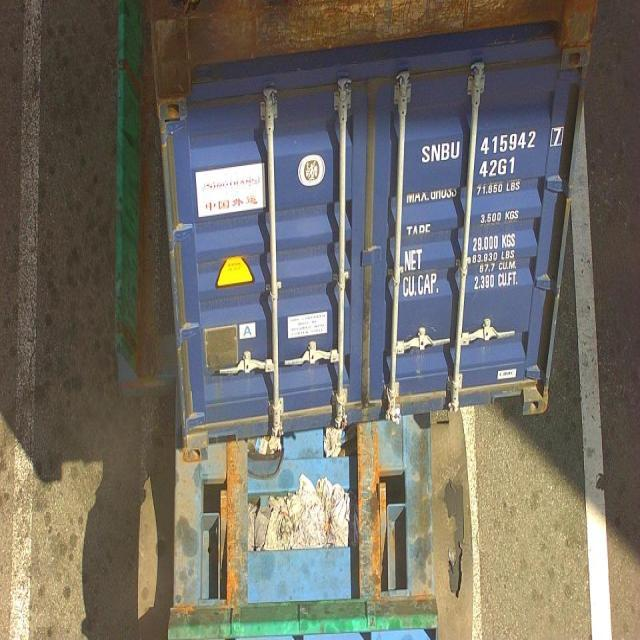ISO: (478, 156, 518, 177)
container_number: (422, 128, 566, 164)
